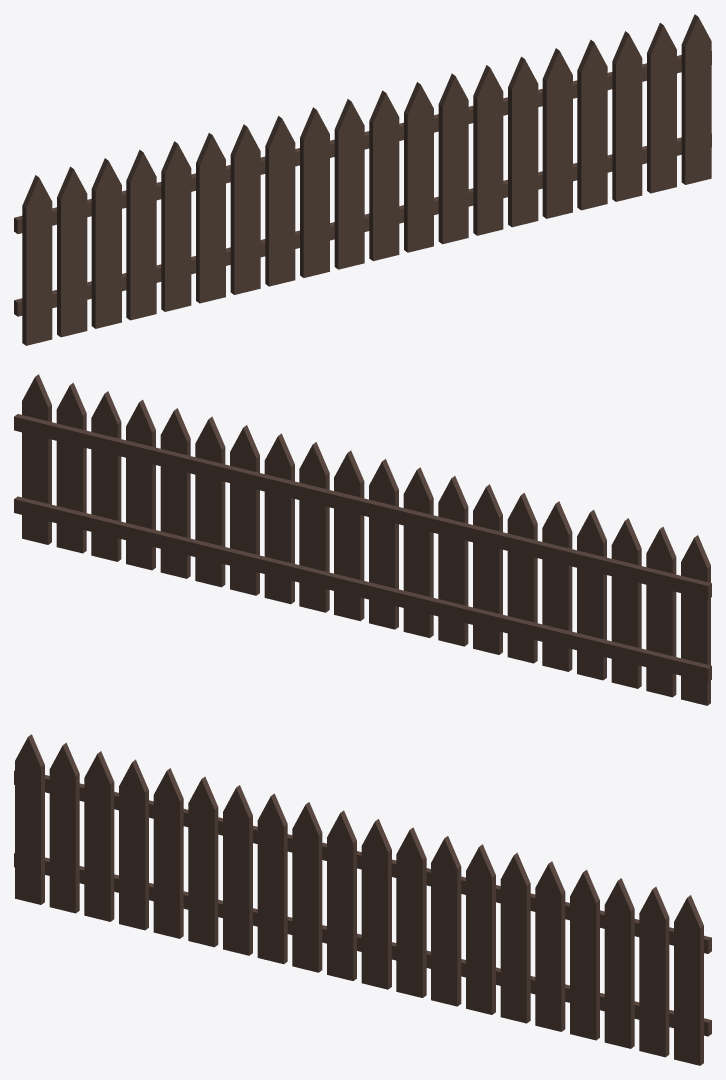
Rendered from Cerca Vizinho.fbx.
3 views of the same model, one above another, from view 1: azimuth 30°, elevation 25°; view 2: azimuth 150°, elevation 25°; view 3: azimuth 330°, elevation 25° (orthographic).
Parts seen in each view (by area): view 1: Cerca; view 2: Cerca; view 3: Cerca.
Boxes of the visible parts, x1,y1,x2,y2 form: Cerca: (14, 14, 711, 345); Cerca: (14, 374, 711, 705); Cerca: (14, 734, 711, 1065).
Bounding box in the file's own units: 528 × 120 × 9.99.
